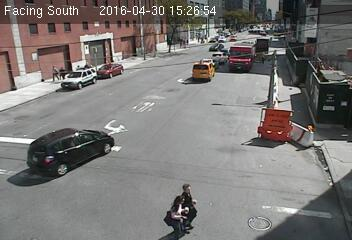neg: (2, 140, 30, 177), (99, 146, 125, 181), (146, 58, 171, 93), (75, 139, 99, 171), (264, 197, 286, 227), (241, 141, 262, 168), (198, 102, 217, 127), (230, 95, 248, 120), (153, 12, 171, 37), (274, 76, 291, 100), (114, 87, 131, 110), (317, 164, 333, 185), (230, 51, 246, 71), (51, 109, 64, 127)
pos: (167, 180, 204, 230), (160, 195, 194, 239), (256, 47, 269, 65), (49, 63, 60, 78), (72, 61, 82, 74), (56, 65, 65, 78), (83, 59, 91, 71)
